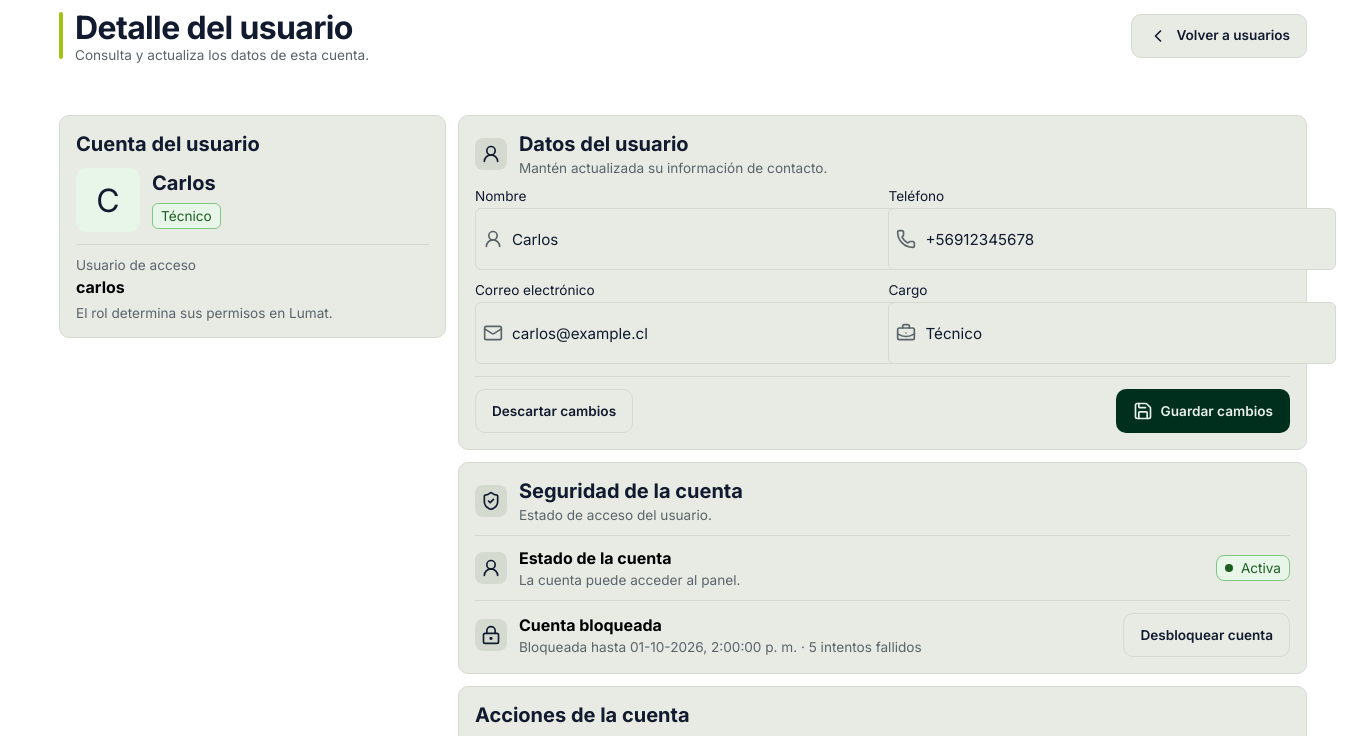
Test: UserFicha › unlocks and updates lockout state
Click the button "Desbloquear cuenta" at coordinates (1207, 635), box [1124,613,1290,657]
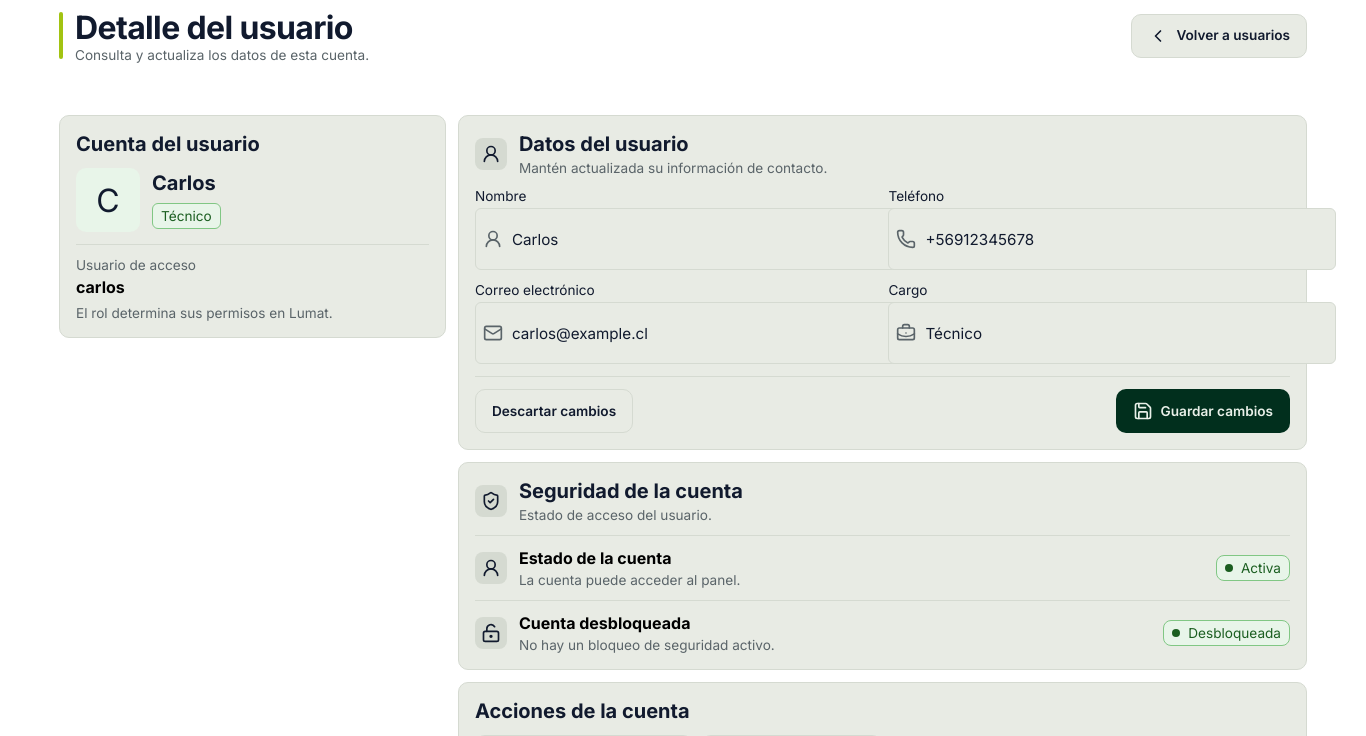
Check: the text "No hay un bloqueo de seguridad activo." is shown, box [519,637,775,653]
Check: the text "Desbloqueada" is shown, box [1163,620,1290,646]
Check: the text "5 intentos fallidos" is gone
